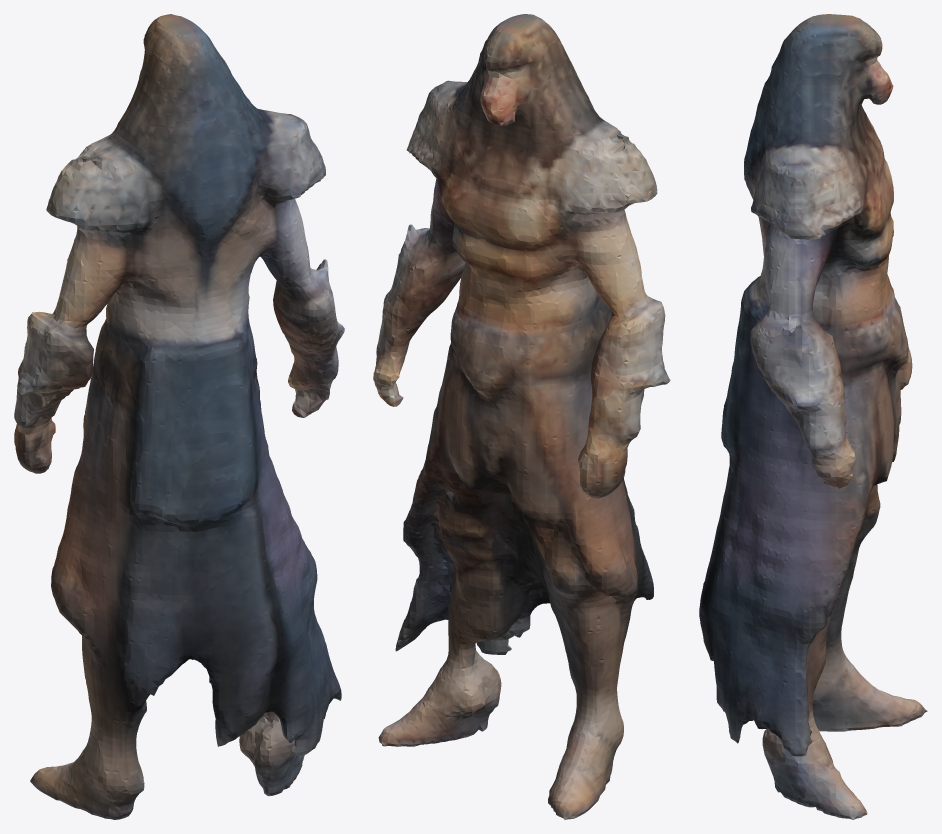
3 views of the same model, side by side, from view 1: azimuth 30°, elevation 25°; view 2: azimuth 150°, elevation 25°; view 3: azimuth 270°, elevation 25° (orthographic). The views are drawn at different scales.
Visible parts, largest first — view 1: world; view 2: world; view 3: world.
Boxes of the visible parts, box(x1,y1,x2,y2) form: world: box(14, 14, 344, 819); world: box(373, 14, 670, 819); world: box(699, 14, 927, 819).
Size of the model in its own units: 0.8252 by 1.99 by 0.5535.
